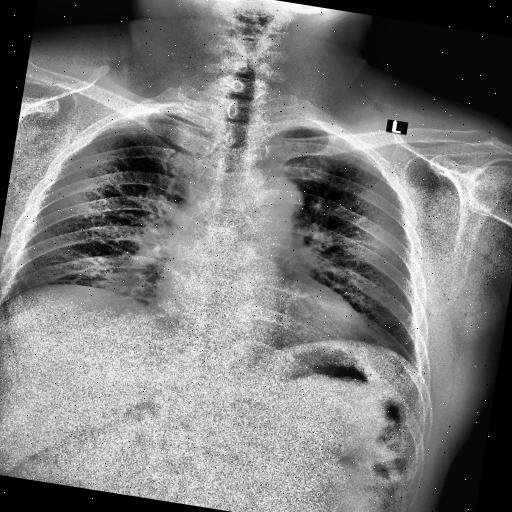0- Aortic enlargement: (240, 172, 307, 250), (242, 169, 306, 237), (244, 170, 305, 220)
3- Cardiomegaly: (154, 258, 376, 348)
